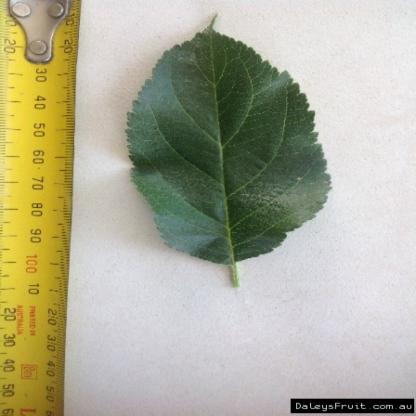apple leaf: (112, 5, 346, 299)
